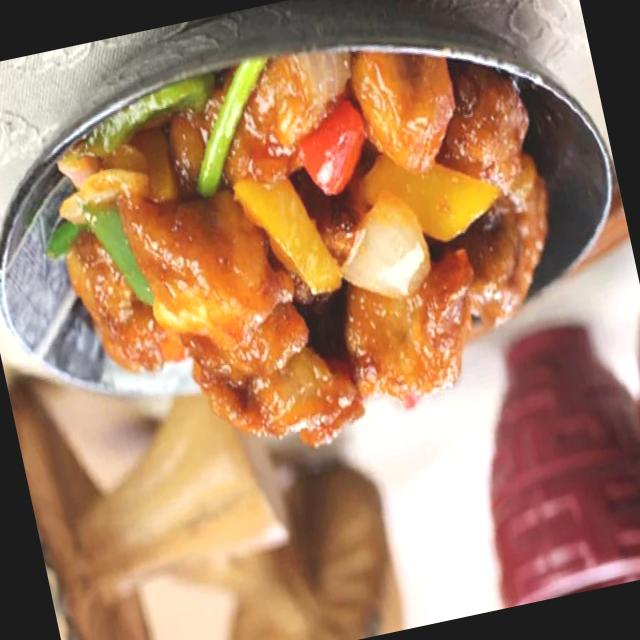suon xao: (59, 54, 547, 446)
